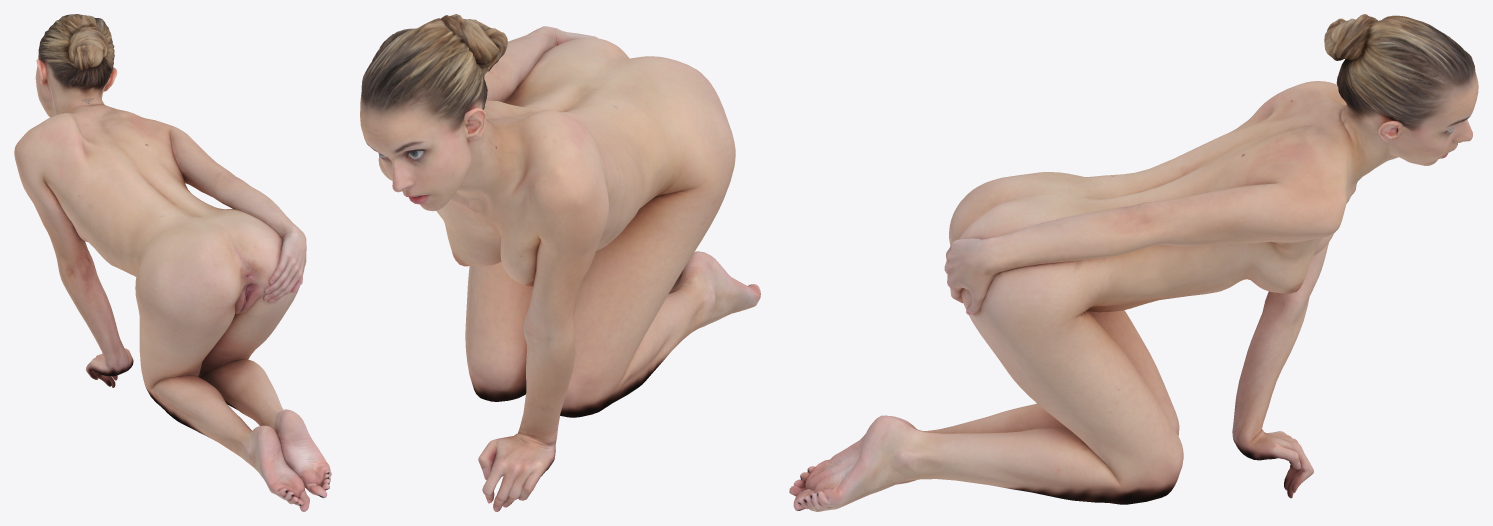
The picture shows the model from 3 angles, left to right: view 1: azimuth 30°, elevation 25°; view 2: azimuth 150°, elevation 25°; view 3: azimuth 270°, elevation 25°; orthographic projection. The views are drawn at different scales.
Parts seen in each view (by area): view 1: 25_LOD4_0_3; view 2: 25_LOD4_0_3; view 3: 25_LOD4_0_3.
Boxes of the visible parts, x1,y1,x2,y2 form: 25_LOD4_0_3: [14, 14, 331, 511]; 25_LOD4_0_3: [360, 14, 760, 511]; 25_LOD4_0_3: [789, 14, 1478, 511].
Bounding box in the file's own units: 0.3651 × 0.6886 × 0.8894.
1 material, 1 textured.
